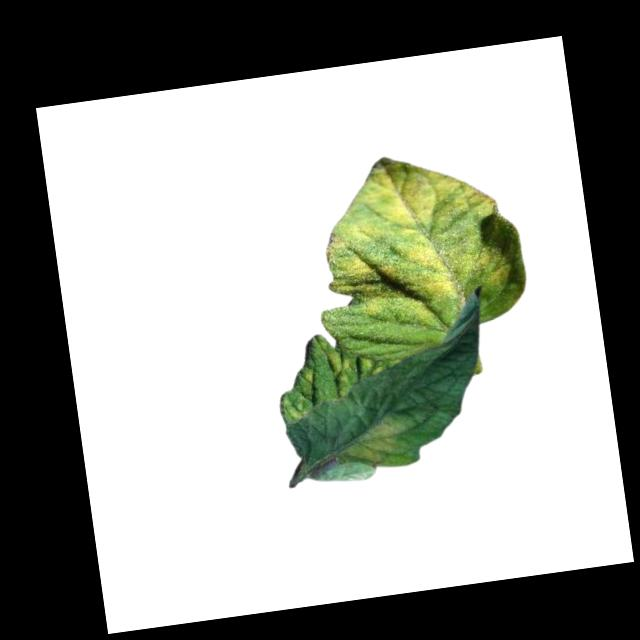Leaf_Mold: (309, 141, 529, 335), (336, 407, 415, 475), (324, 347, 357, 399), (276, 392, 313, 424)
